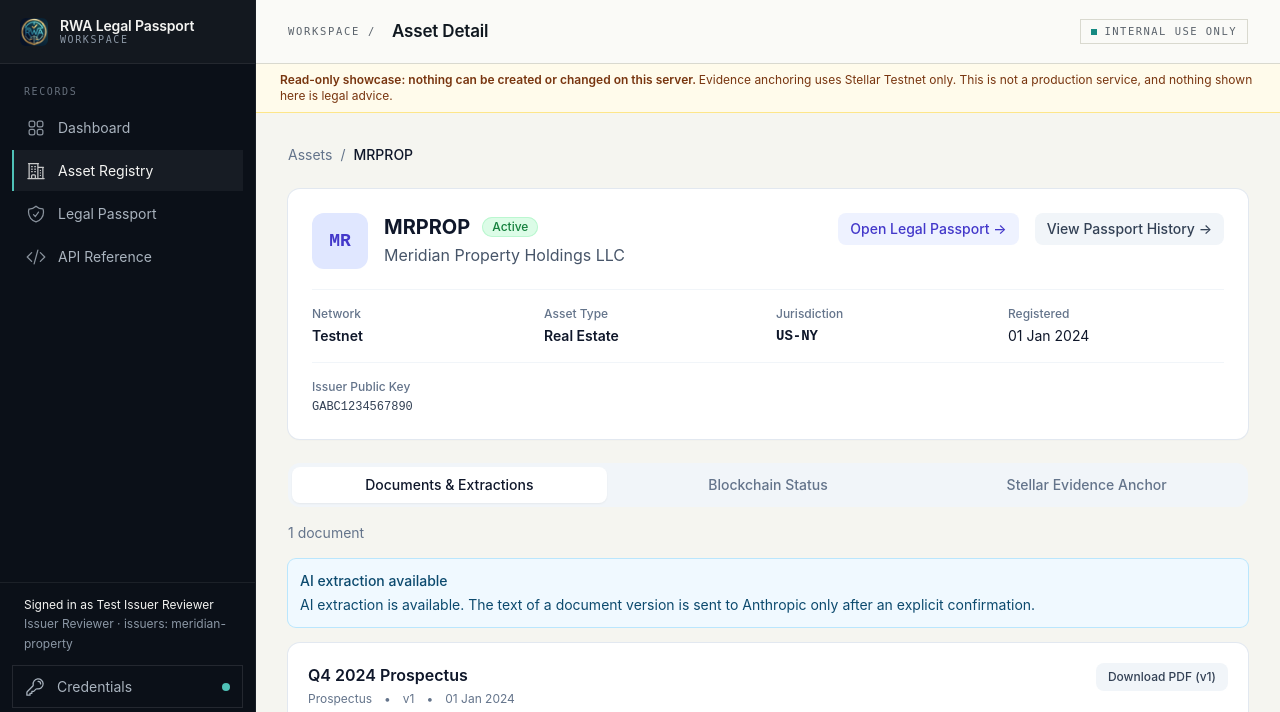
Read-only showcase of synthetic data › offers no upload, extraction, manual claim or anchoring on an asset
Check: the element with test id "deployment-banner" is shown, box [256, 64, 1279, 113]
Check: the text "Signed in as Test Issuer Reviewer" is shown, box [24, 594, 231, 614]
Click the button "Stellar Evidence Anchor" at (1087,485), box [929, 467, 1244, 503]
(page scrolled)
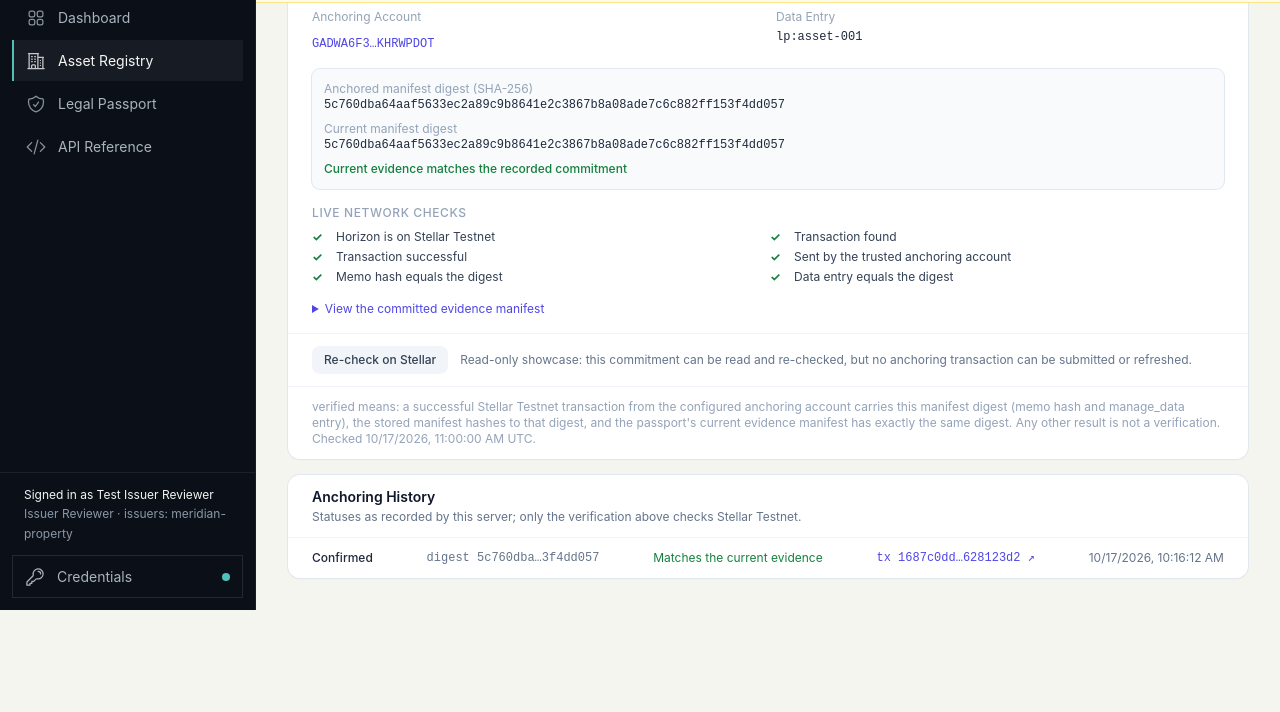
Check: the text with test id "anchor-read-only-note" shows "Read-only showcase", box [460, 352, 1192, 367]
Check: the button "Re-check on Stellar" is shown, box [312, 346, 448, 374]
